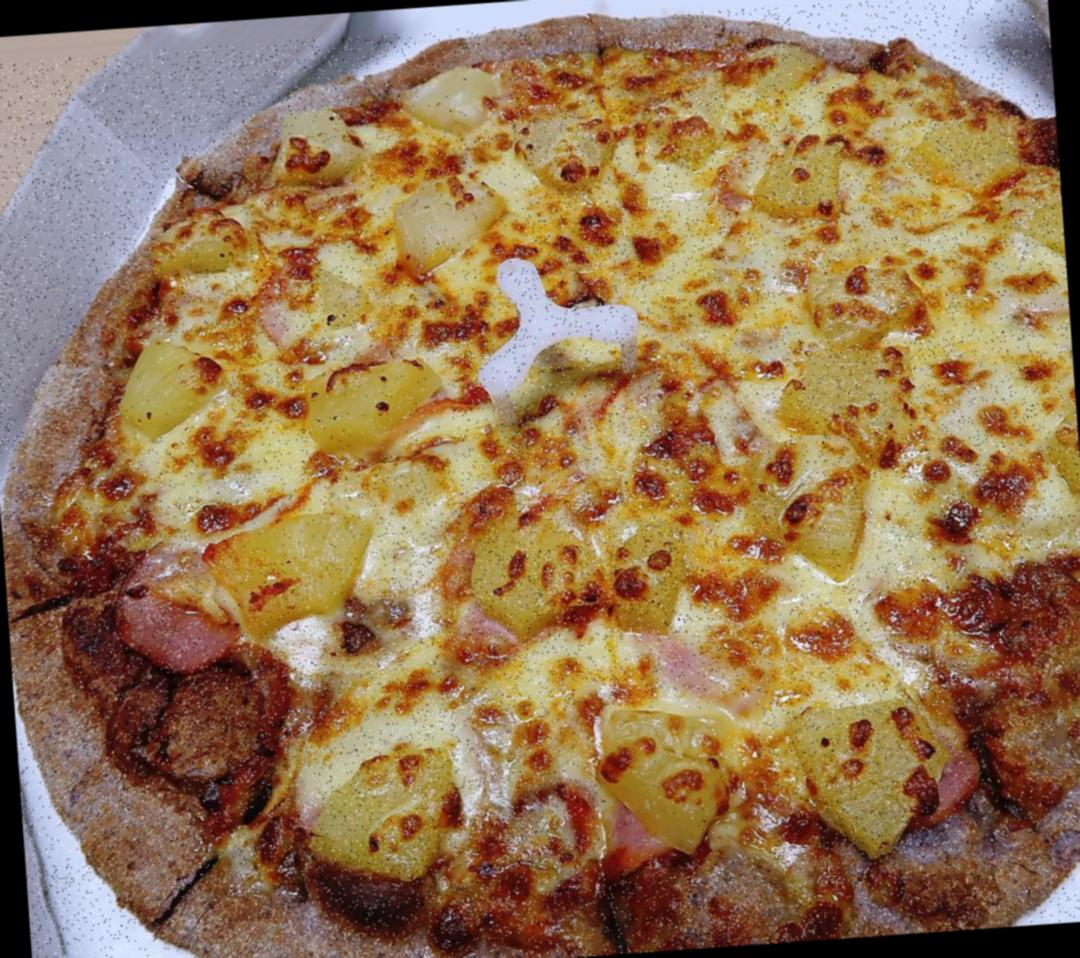Pineapple: (463, 498, 687, 648), (782, 688, 960, 870), (592, 696, 768, 868), (199, 506, 385, 636), (767, 340, 937, 444), (304, 356, 455, 461), (390, 170, 522, 278), (111, 335, 234, 444), (796, 256, 926, 350), (768, 468, 876, 578), (901, 115, 1024, 200), (400, 62, 514, 138), (750, 133, 848, 217), (268, 107, 370, 186), (150, 204, 252, 276)
Pizza: (0, 0, 1080, 958)
